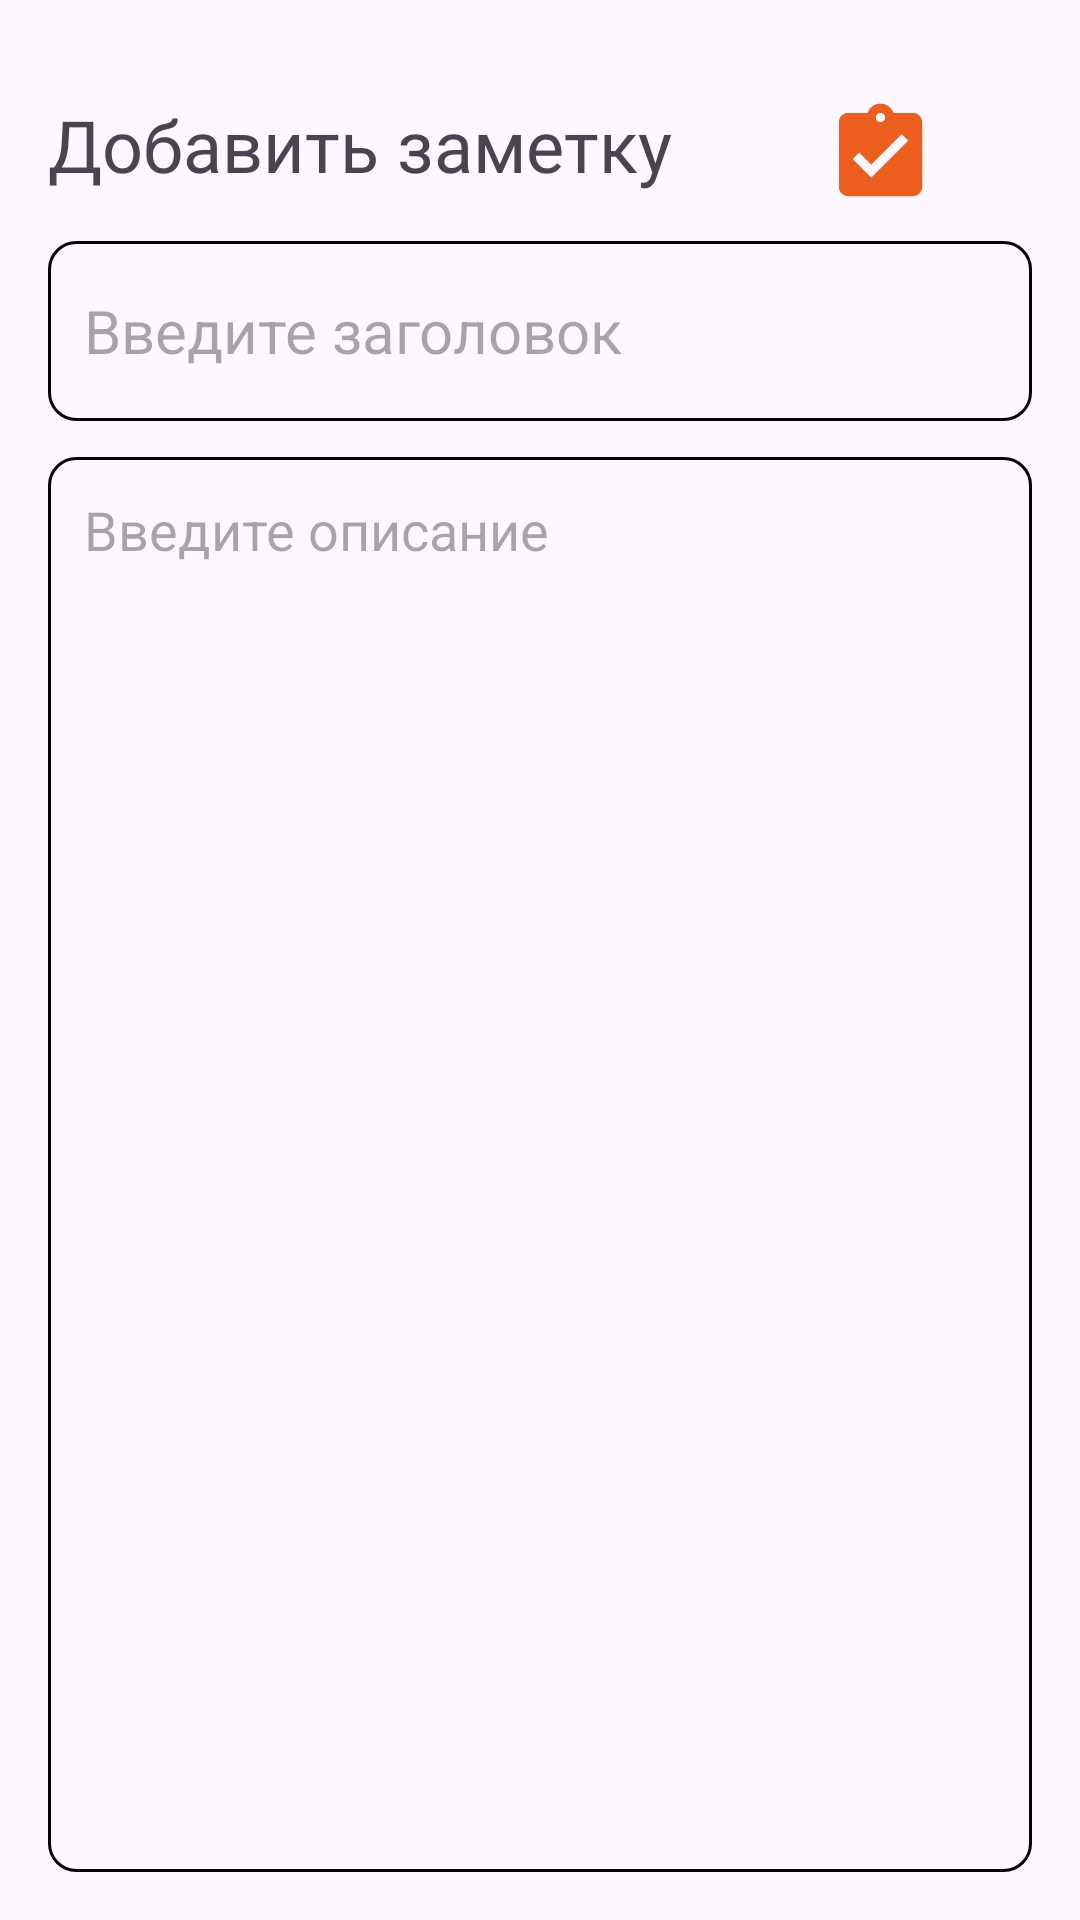

Locate icon controls on the screen. Image size 1080x1920, boxes as (x1, y1, x2, y2).
assignment turned in: (839, 103, 923, 197)
